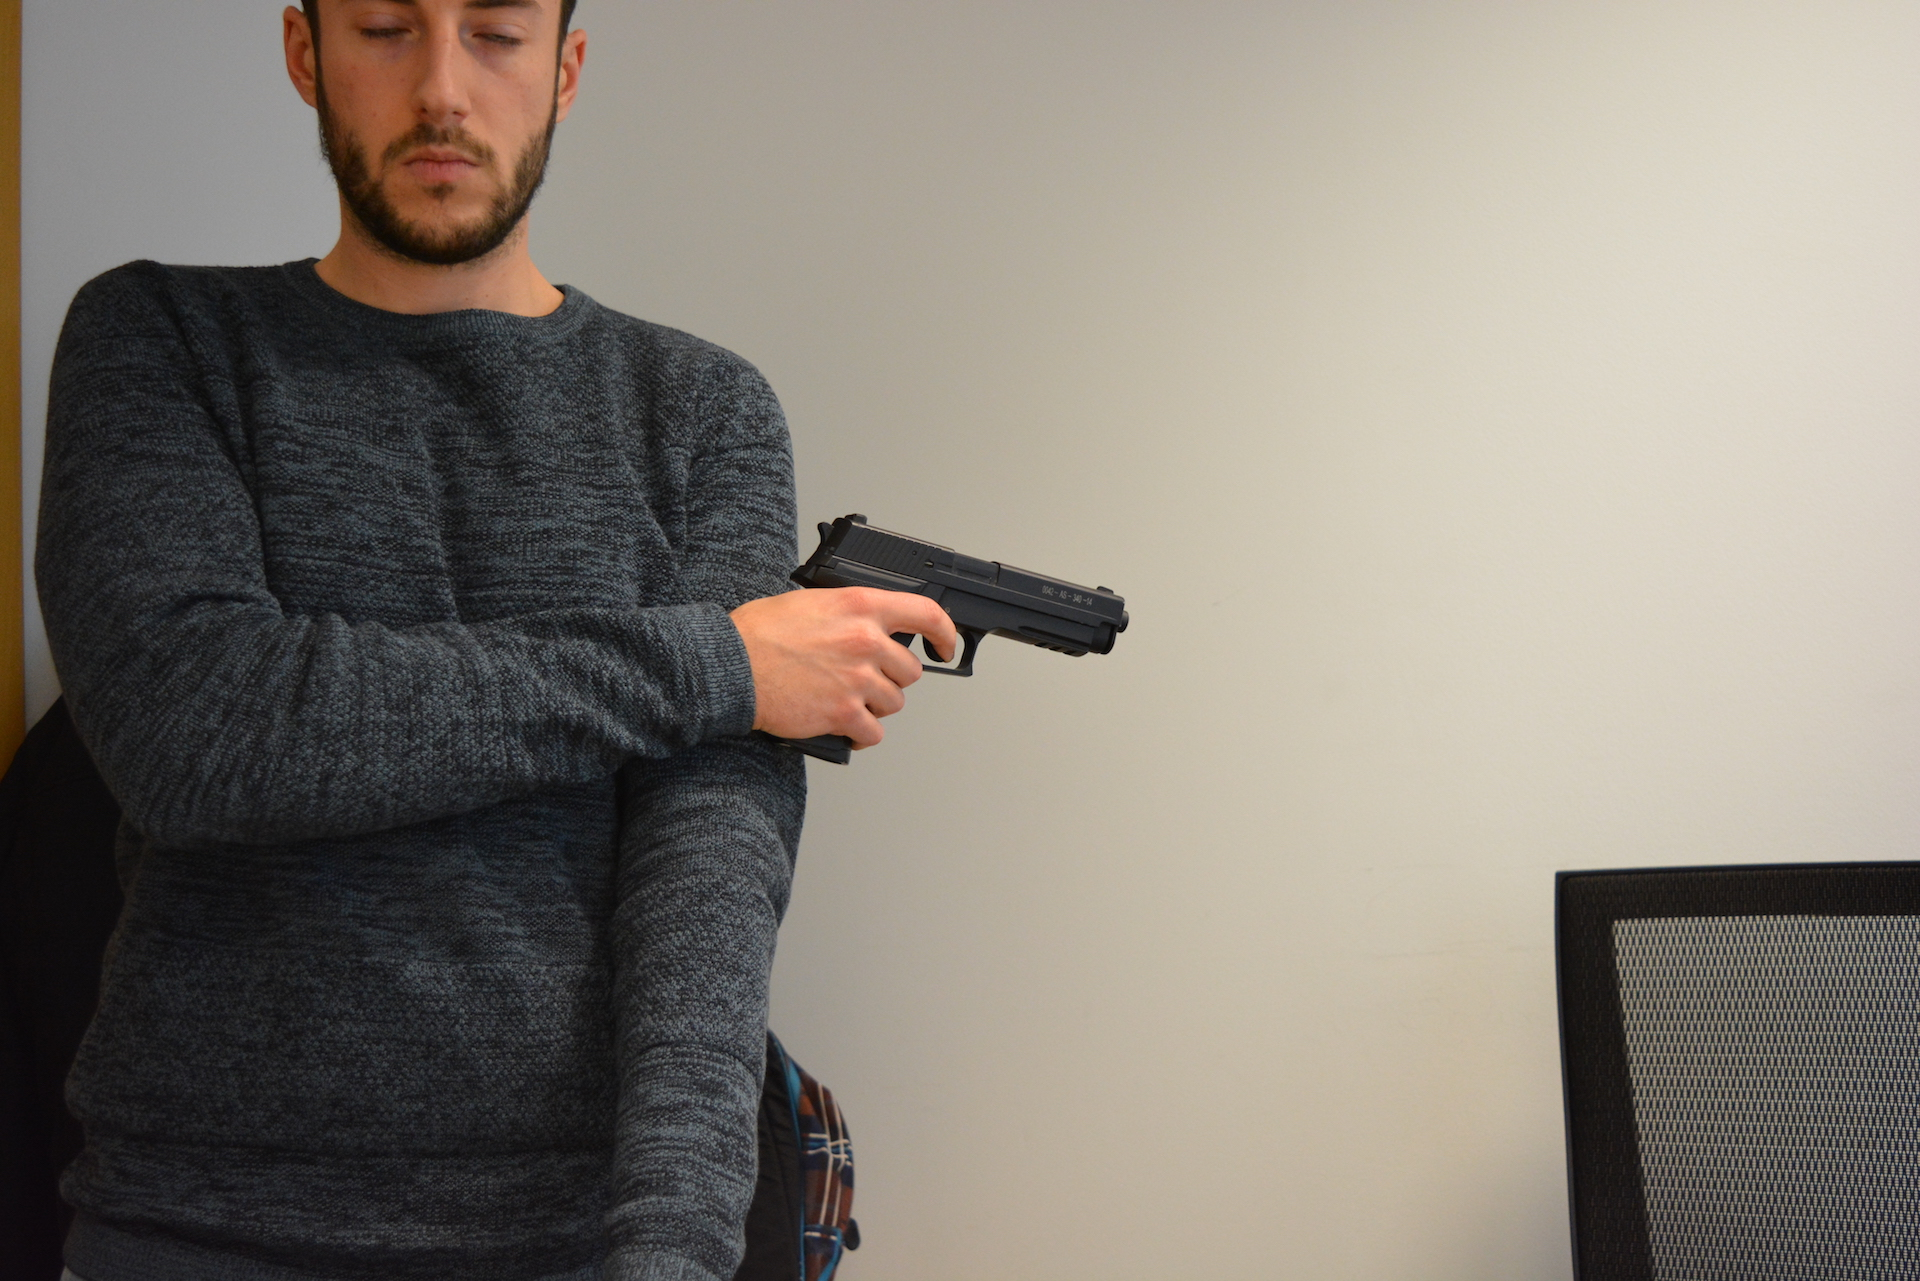pistol: (763, 510, 1132, 768)
